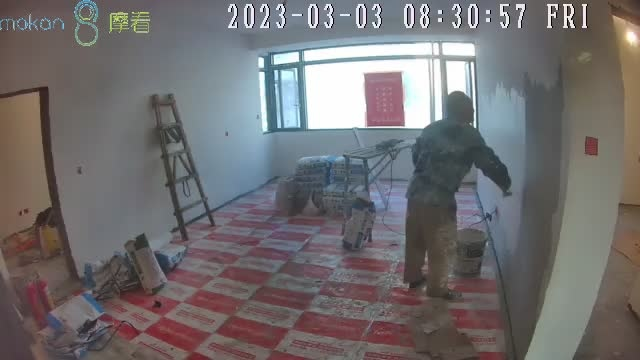people: (403, 91, 512, 296)
window: (258, 41, 477, 136)
